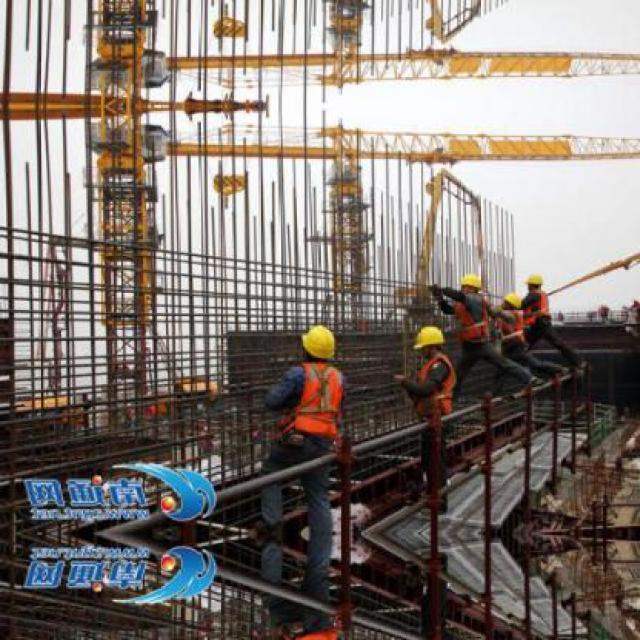Reflective-Jacket: (282, 362, 351, 448), (408, 353, 462, 426), (452, 295, 492, 347), (520, 290, 554, 333), (496, 308, 526, 346)
Safety-Helmet: (294, 319, 344, 366), (409, 320, 449, 354), (456, 268, 486, 294), (522, 270, 548, 290), (500, 290, 525, 310)
